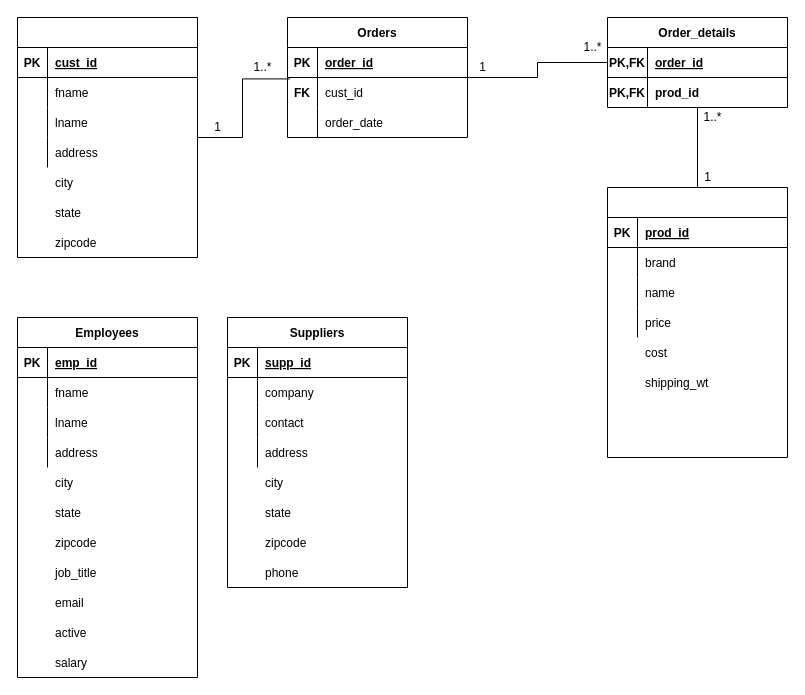
This 805x695 diagram has some shape labels left out. The box of each missing label's shape, as (x1, y1, x2, y2) in pixels:
Customers: (16, 16, 198, 258)
Products: (606, 186, 788, 458)
